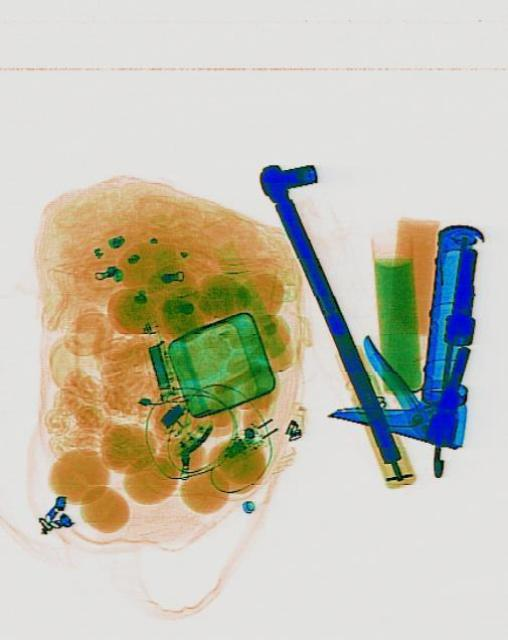Knife: (323, 205, 486, 449)
